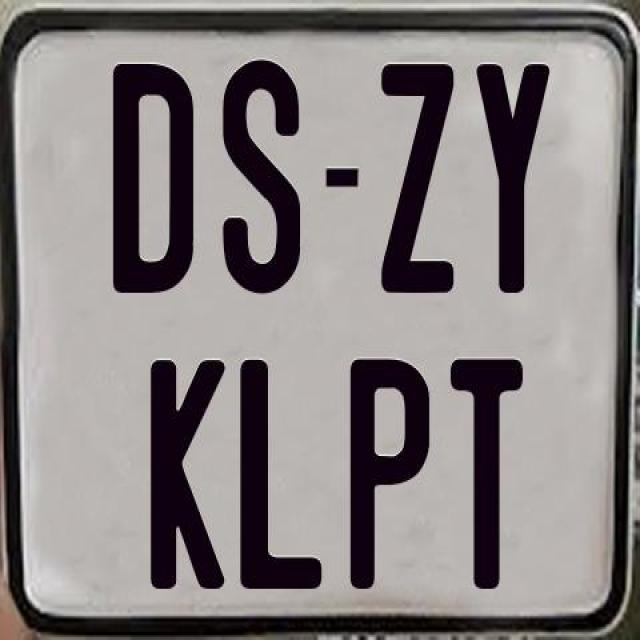D: (110, 59, 194, 293)
K: (150, 360, 234, 597)
L: (240, 357, 324, 586)
P: (347, 358, 432, 597)
S: (222, 55, 308, 298)
T: (450, 357, 524, 596)
Y: (474, 60, 550, 298)
Z: (380, 59, 455, 298)
